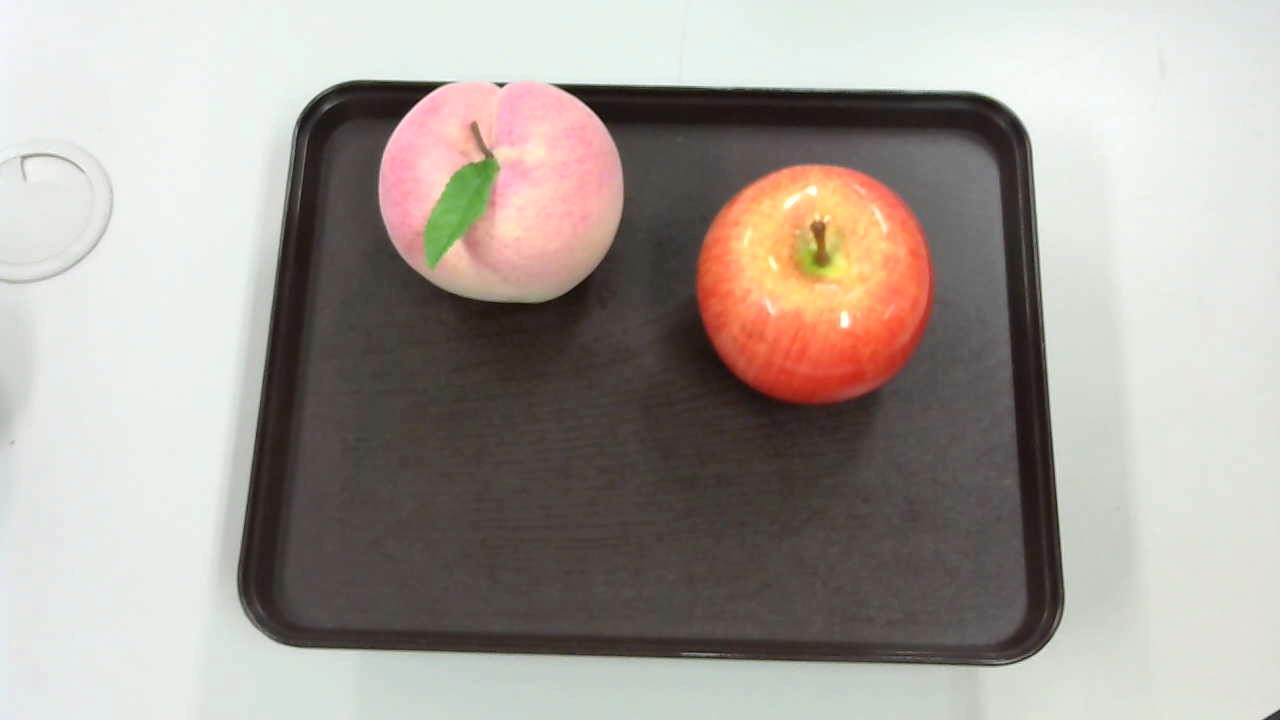peach: (367, 71, 628, 302)
red apple: (687, 163, 943, 412)
